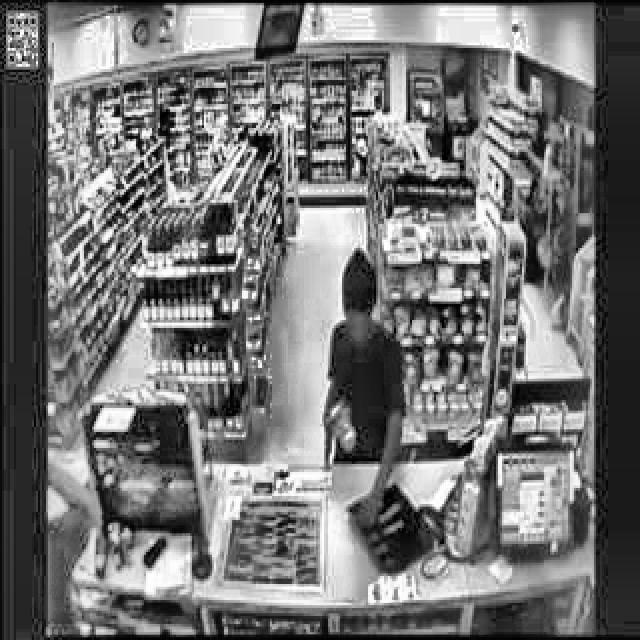robbery: (319, 250, 412, 530)
